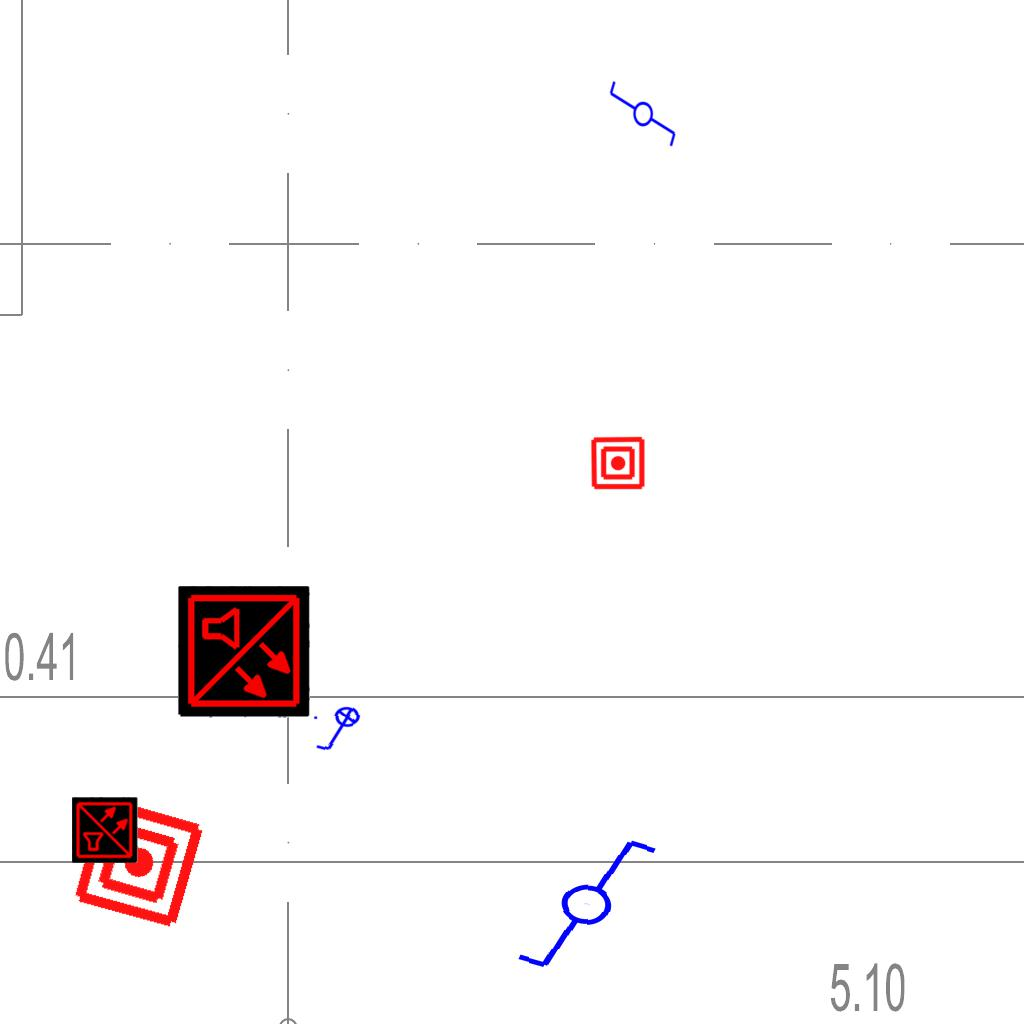Ausschalter_beleuchtet: (310, 705, 368, 755)
NAM-Nichtautomatischer_Melder: (68, 792, 209, 933), (590, 435, 646, 491)
OKW_Multisensormelder_(Kombination_optischer_Rauch-Kahlenmonoxid_Waerme-Melder): (178, 586, 310, 718), (72, 797, 138, 863)
Wechselschalter: (496, 825, 661, 979), (606, 79, 678, 157)
